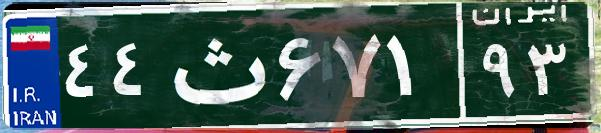1: (385, 28, 445, 110)
3: (525, 38, 570, 115)
4: (57, 26, 110, 107), (110, 28, 158, 105)
6: (273, 28, 330, 110)
7: (330, 28, 385, 110)
9: (475, 38, 525, 113)
ث: (158, 15, 273, 115)
